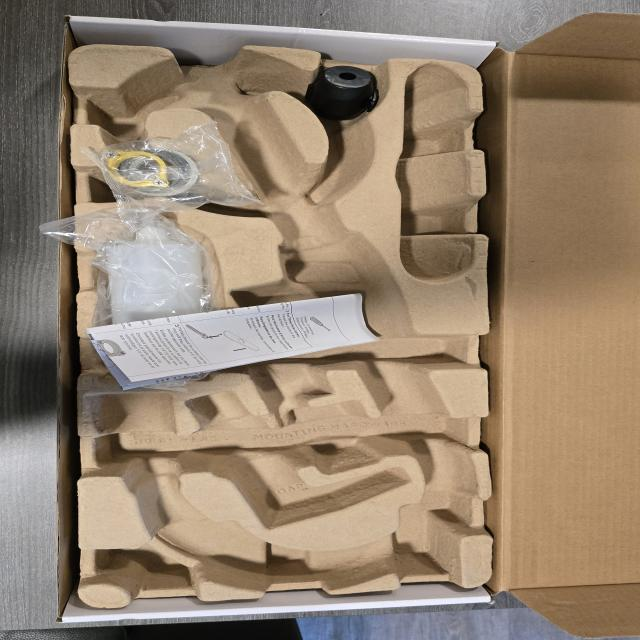1m: (88, 46, 474, 590)
2m: (181, 391, 413, 528)
3o: (102, 208, 214, 385)
4m: (394, 62, 470, 285)
5: (307, 63, 378, 121)
6: (88, 118, 265, 234)
7m: (92, 66, 185, 139)
8: (85, 294, 383, 393)
